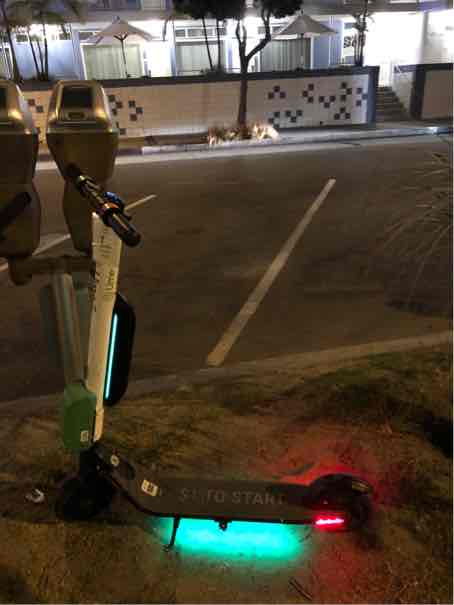scooter: (36, 177, 381, 545)
